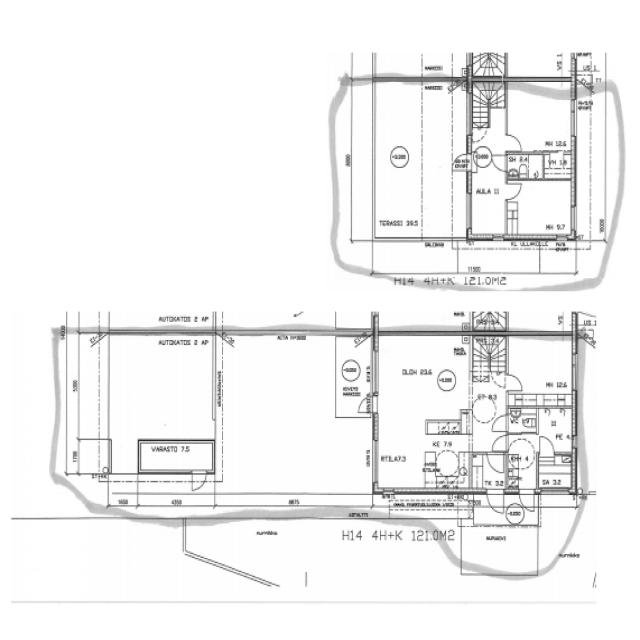door: (538, 406, 576, 454), (536, 449, 576, 492), (486, 488, 506, 514), (486, 449, 506, 474), (503, 370, 525, 392), (190, 468, 208, 493), (356, 393, 377, 414), (518, 488, 537, 511), (503, 132, 524, 152), (536, 433, 556, 454), (490, 413, 510, 433), (489, 432, 508, 452), (505, 179, 523, 200), (491, 152, 508, 172), (490, 370, 506, 390)
window: (369, 344, 381, 396), (569, 346, 581, 394), (370, 435, 381, 483), (463, 90, 473, 139), (463, 188, 474, 231), (568, 96, 578, 140), (539, 486, 572, 498), (569, 203, 579, 234), (378, 485, 397, 499), (490, 232, 507, 244), (554, 233, 570, 243)
zone: (217, 333, 360, 496), (66, 332, 218, 476), (374, 332, 471, 442), (505, 334, 578, 408), (504, 86, 576, 156), (506, 179, 576, 238), (468, 165, 508, 240), (506, 49, 571, 85), (538, 404, 576, 453), (507, 432, 536, 482), (538, 451, 574, 491), (538, 242, 576, 275), (506, 153, 544, 180), (542, 151, 574, 180), (507, 406, 538, 432)
